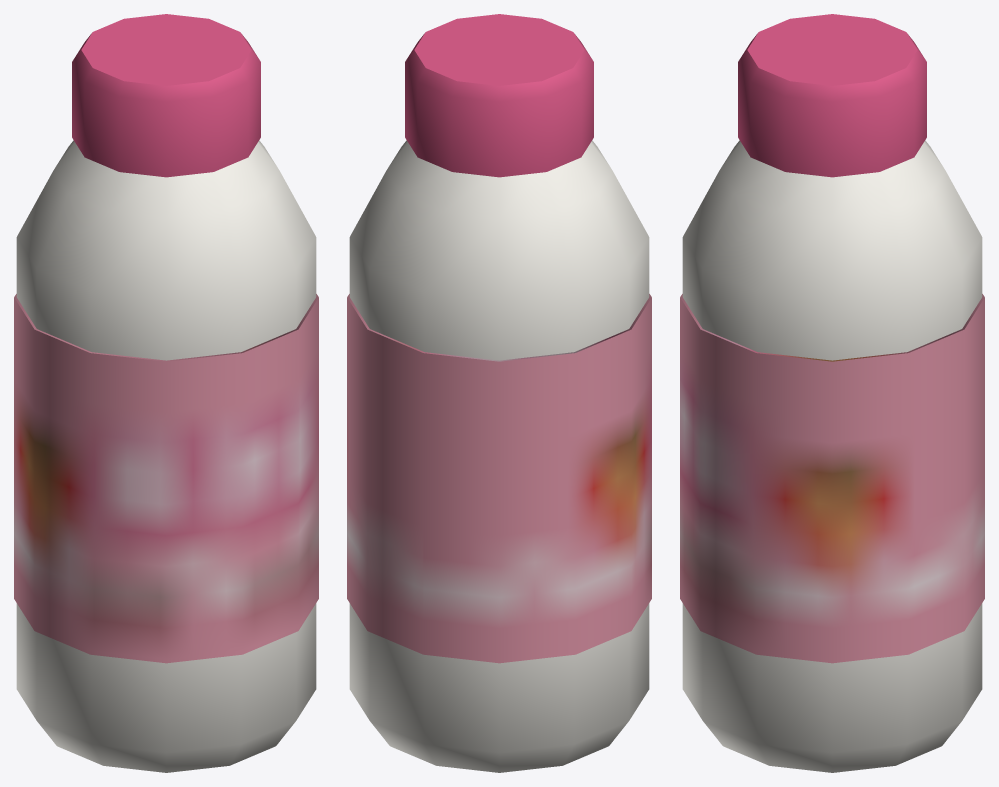
File: SC_Prod_Yogurt_Drink_Small.gltf
3 views of the same model, side by side, from view 1: azimuth 30°, elevation 25°; view 2: azimuth 150°, elevation 25°; view 3: azimuth 270°, elevation 25° (orthographic).
Visible parts, largest first — view 1: SC_Prod_Yogurt_Drink_Small; view 2: SC_Prod_Yogurt_Drink_Small; view 3: SC_Prod_Yogurt_Drink_Small.
Boxes of the visible parts, <box> form: SC_Prod_Yogurt_Drink_Small: <box>14,14,318,772</box>; SC_Prod_Yogurt_Drink_Small: <box>347,14,651,772</box>; SC_Prod_Yogurt_Drink_Small: <box>680,14,984,772</box>.
Size of the model in its own units: 0.0458 by 0.111 by 0.0458.
Materials: 2 (2 with a texture image).
